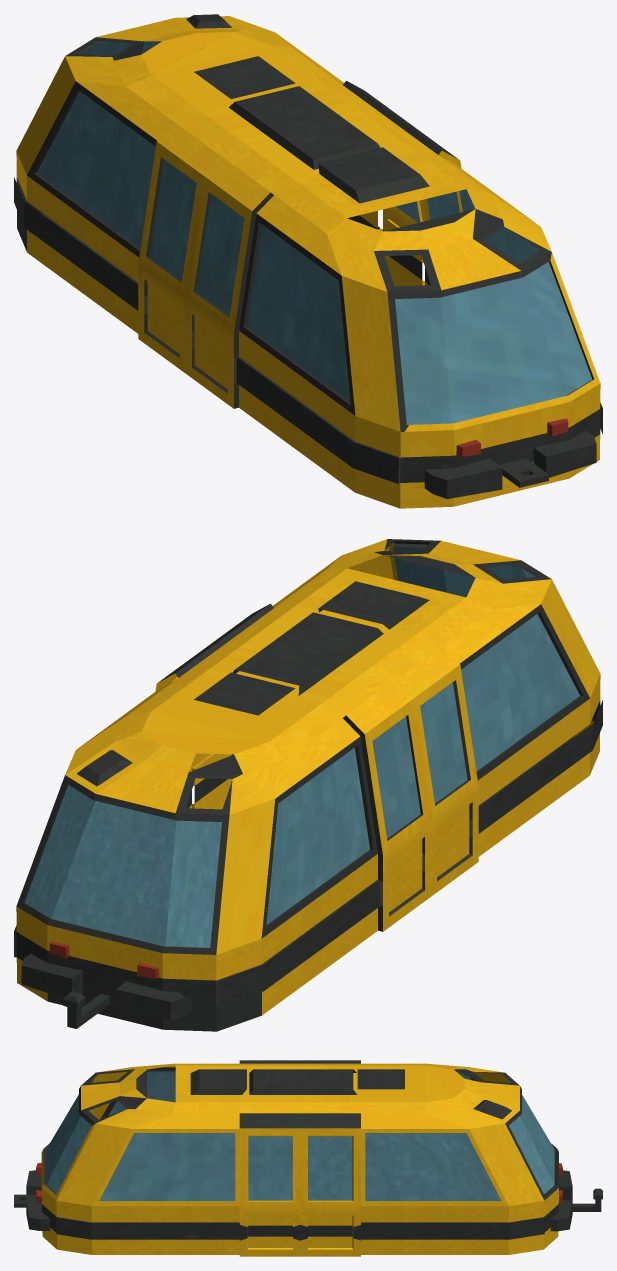
Rendered from BLOCKYGON_TRAIN PART.fbx.
3 renders of one model, top to bottom at view 1: azimuth 30°, elevation 25°; view 2: azimuth 150°, elevation 25°; view 3: azimuth 270°, elevation 25°, orthographic. The views are drawn at different scales.
Parts seen in each view (by area): view 1: BLOCKYGON_TRAIN_PART; view 2: BLOCKYGON_TRAIN_PART; view 3: BLOCKYGON_TRAIN_PART.
Part boxes in pixels (bbox=[...]): BLOCKYGON_TRAIN_PART: bbox=[14, 14, 602, 508]; BLOCKYGON_TRAIN_PART: bbox=[14, 539, 602, 1031]; BLOCKYGON_TRAIN_PART: bbox=[14, 1060, 602, 1256].
Size of the model in its own units: 234 by 201 by 767.
1 material, 1 textured.
